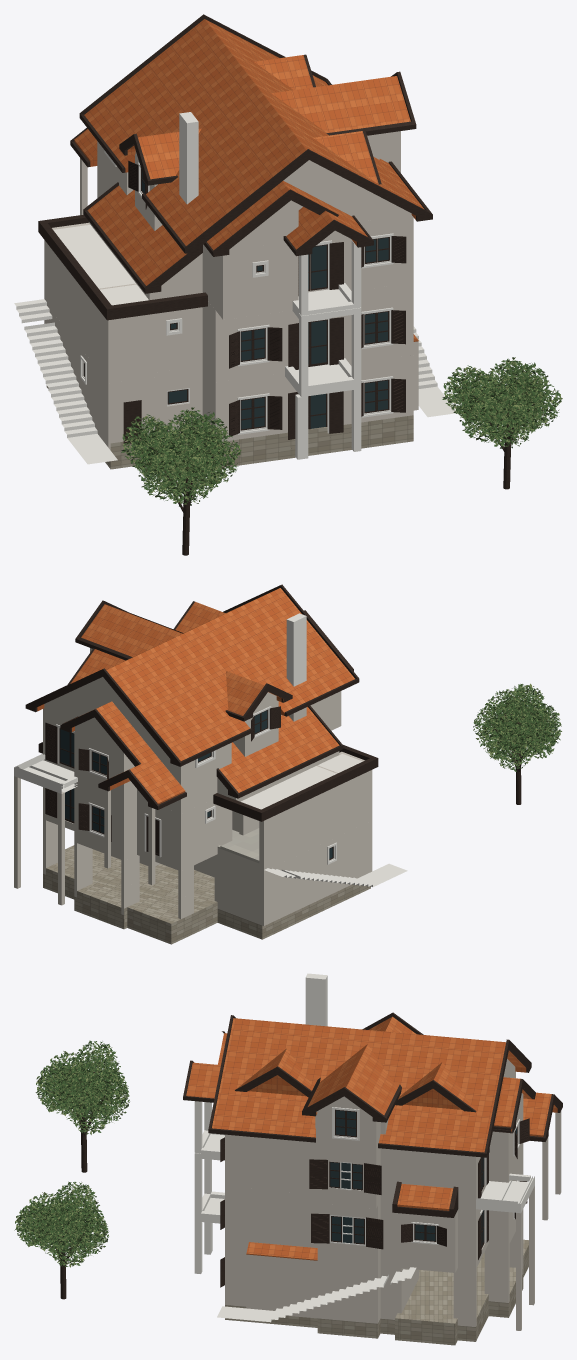
File: context-detail-b17.glb
The picture shows the model from 3 angles, top to bottom: view 1: azimuth 30°, elevation 25°; view 2: azimuth 150°, elevation 25°; view 3: azimuth 270°, elevation 25°; orthographic projection. The views are drawn at different scales.
Visible parts, largest first — view 1: B17 | ÇATII.003, B17 | KAT 1$DUVAR, B17 | KAT 2$DUVAR, B17 | KAT 0$DUVAR, B17 | ek dalgalar, B17 | ÇATI ALIN.002, Individual folded leaves.020, Individual folded leaves.019, B17 | KAT 3$DUVAR, B17 | ÇATII.002, B17 foundation below BK, B17 | ÇATI ALIN (+15 smaller); view 2: B17 | ÇATII.003, B17 | KAT 1$DUVAR, B17 | KAT 0$DUVAR, B17 foundation below BK, B17 | KAT 2$DUVAR, B17 | ÇATII.002, Individual folded leaves.020, B17 | ÇATI ALIN.002, B17 | ÇATI ALIN.001, B17 | KAT 3$DUVAR, B17 | ÇATI ALIN, B17 | KAT 1$TAVAN (+11 smaller); view 3: B17 | ÇATII.003, B17 | KAT 0$DUVAR, B17 | KAT 1$DUVAR, B17 | KAT 2$DUVAR, B17 foundation below BK, Individual folded leaves.020, Individual folded leaves.019, B17 | ÇATI ALIN.002, B17 | ek dalgalar, B17 | ek dalgalar.001, B17 | ÇATI ALIN.001, B17 | ÇATII.002 (+11 smaller).
Part boxes in pixels (x1,y1,x2,y2): B17 | ÇATII.003: [84, 19, 424, 250]; B17 | KAT 1$DUVAR: [44, 158, 413, 383]; B17 | KAT 2$DUVAR: [89, 141, 413, 319]; B17 | KAT 0$DUVAR: [44, 305, 418, 449]; B17 | ek dalgalar: [14, 299, 456, 464]; B17 | ÇATI ALIN.002: [79, 14, 432, 256]; Individual folded leaves.020: [121, 407, 241, 506]; Individual folded leaves.019: [442, 357, 562, 448]; B17 | KAT 3$DUVAR: [135, 131, 411, 250]; B17 | ÇATII.002: [74, 129, 415, 285]; B17 foundation below BK: [46, 385, 413, 469]; B17 | ÇATI ALIN: [38, 214, 207, 320]; B17 | ÇATII.003: [70, 588, 354, 763]; B17 | KAT 1$DUVAR: [43, 751, 372, 884]; B17 | KAT 0$DUVAR: [14, 776, 372, 925]; B17 foundation below BK: [43, 845, 370, 944]; B17 | KAT 2$DUVAR: [43, 691, 341, 813]; B17 | ÇATII.002: [37, 704, 339, 804]; Individual folded leaves.020: [473, 683, 561, 771]; B17 | ÇATI ALIN.002: [26, 584, 358, 766]; B17 | ÇATI ALIN.001: [25, 669, 359, 809]; B17 | KAT 3$DUVAR: [44, 648, 278, 753]; B17 | ÇATI ALIN: [38, 745, 378, 821]; B17 | KAT 1$TAVAN: [241, 754, 362, 809]; B17 | ÇATII.003: [186, 1016, 531, 1152]; B17 | KAT 0$DUVAR: [225, 1186, 534, 1330]; B17 | KAT 1$DUVAR: [225, 1111, 561, 1272]; B17 | KAT 2$DUVAR: [225, 1071, 523, 1208]; B17 foundation below BK: [225, 1239, 528, 1345]; Individual folded leaves.020: [35, 1040, 129, 1134]; Individual folded leaves.019: [14, 1181, 108, 1267]; B17 | ÇATI ALIN.002: [183, 1012, 535, 1153]; B17 | ek dalgalar: [195, 1158, 416, 1322]; B17 | ek dalgalar.001: [194, 1133, 534, 1273]; B17 | ÇATI ALIN.001: [183, 1067, 562, 1211]; B17 | ÇATII.002: [397, 1067, 557, 1208].
Bounding box in the file's own units: 21.1 × 14.71 × 26.76.
12 materials, 12 textured.
